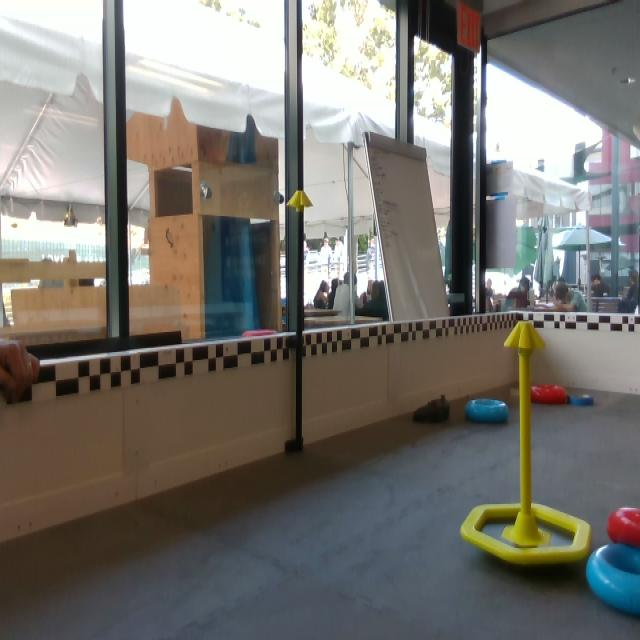Blue-Ring: (585, 544, 639, 619), (466, 399, 511, 425), (574, 392, 596, 407)
Mobile-Goal: (459, 323, 593, 569)
Red-Ring: (606, 508, 639, 549), (531, 383, 569, 404)
Yellow-Stake-Head: (504, 322, 547, 352), (287, 190, 314, 208)
